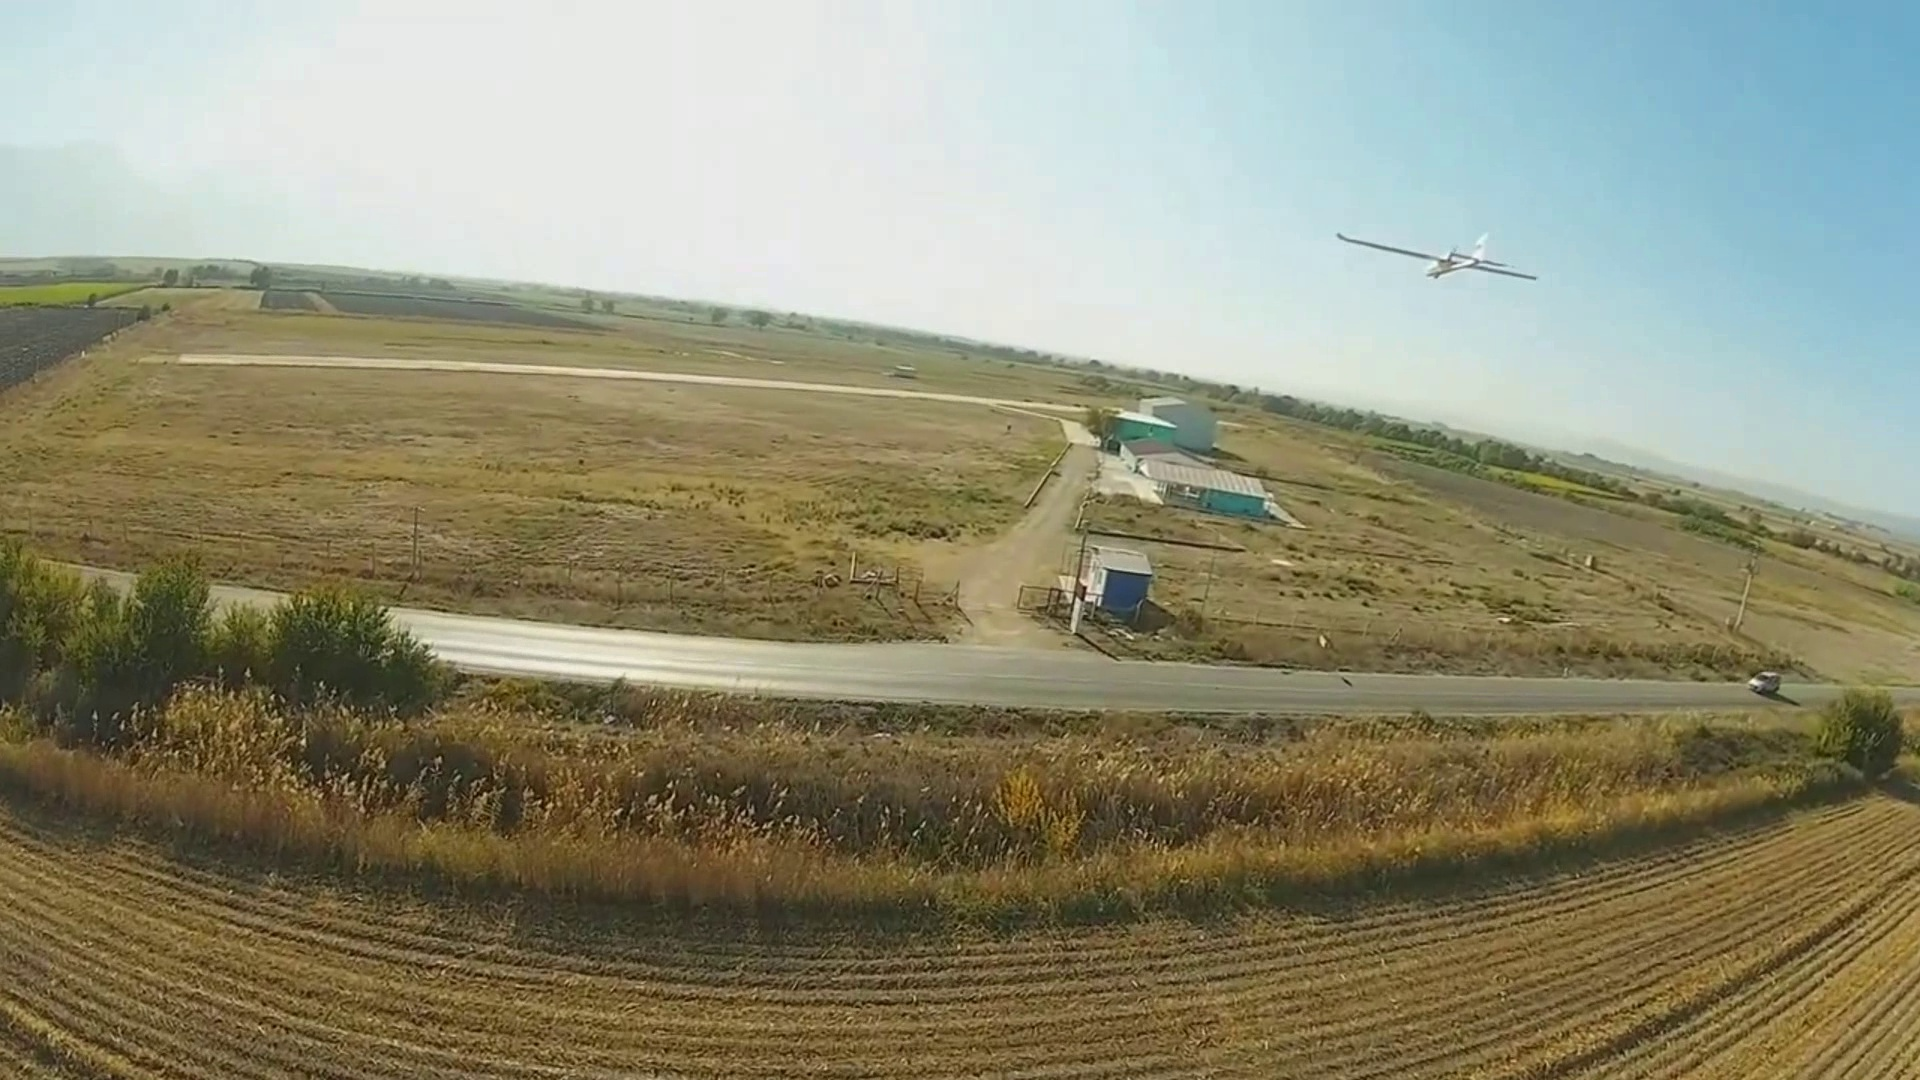airplane: (1333, 223, 1540, 282)
